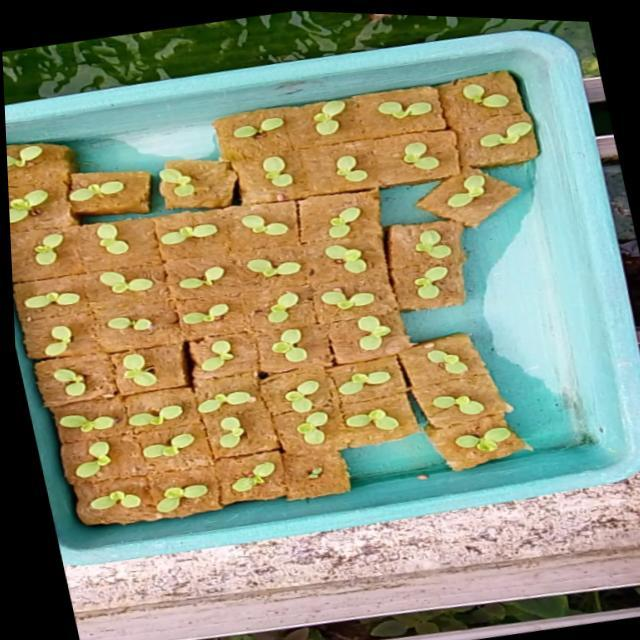Baby: (434, 170, 488, 216), (21, 224, 80, 265), (451, 77, 520, 112), (455, 111, 510, 147), (187, 338, 237, 372), (97, 314, 162, 340), (323, 279, 374, 312), (324, 243, 383, 271), (330, 367, 387, 395), (41, 367, 83, 404), (152, 484, 203, 513), (50, 413, 114, 436), (377, 97, 442, 119), (452, 423, 507, 448), (227, 460, 271, 491), (193, 390, 251, 413), (415, 220, 451, 257), (117, 353, 154, 387), (174, 263, 224, 288), (123, 404, 179, 426), (72, 441, 106, 477), (353, 313, 387, 348), (267, 326, 302, 360), (97, 270, 151, 292), (281, 378, 315, 411), (312, 99, 344, 134), (245, 256, 299, 276), (265, 289, 297, 322), (328, 203, 359, 237), (428, 391, 480, 411), (423, 346, 464, 371), (293, 408, 324, 441), (87, 489, 138, 509), (345, 410, 396, 430), (181, 301, 227, 323), (399, 141, 435, 169), (260, 154, 292, 185), (94, 223, 126, 253), (22, 290, 77, 306), (43, 325, 71, 356), (334, 153, 366, 180), (412, 272, 446, 297), (215, 416, 239, 448), (139, 439, 181, 457), (242, 213, 278, 234)
